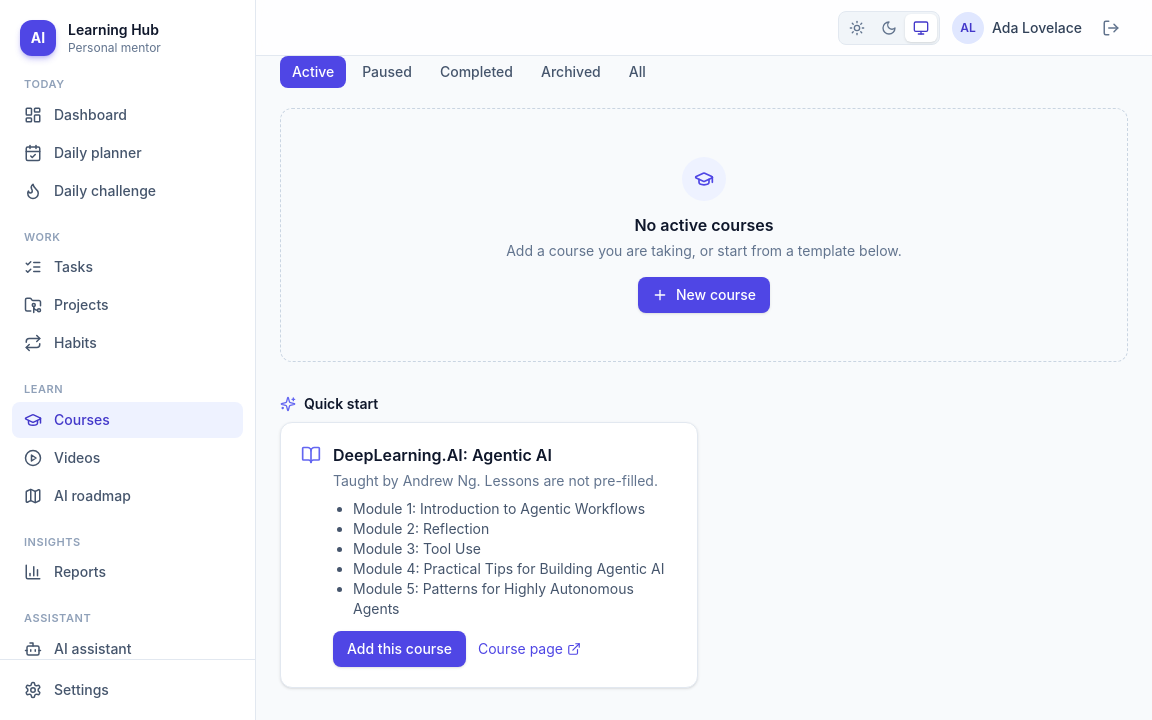
courses list › shows the server's message if adding a template fails
(page scrolled)
Click the button "Add this course" at (400, 649), box [333,631,466,667]
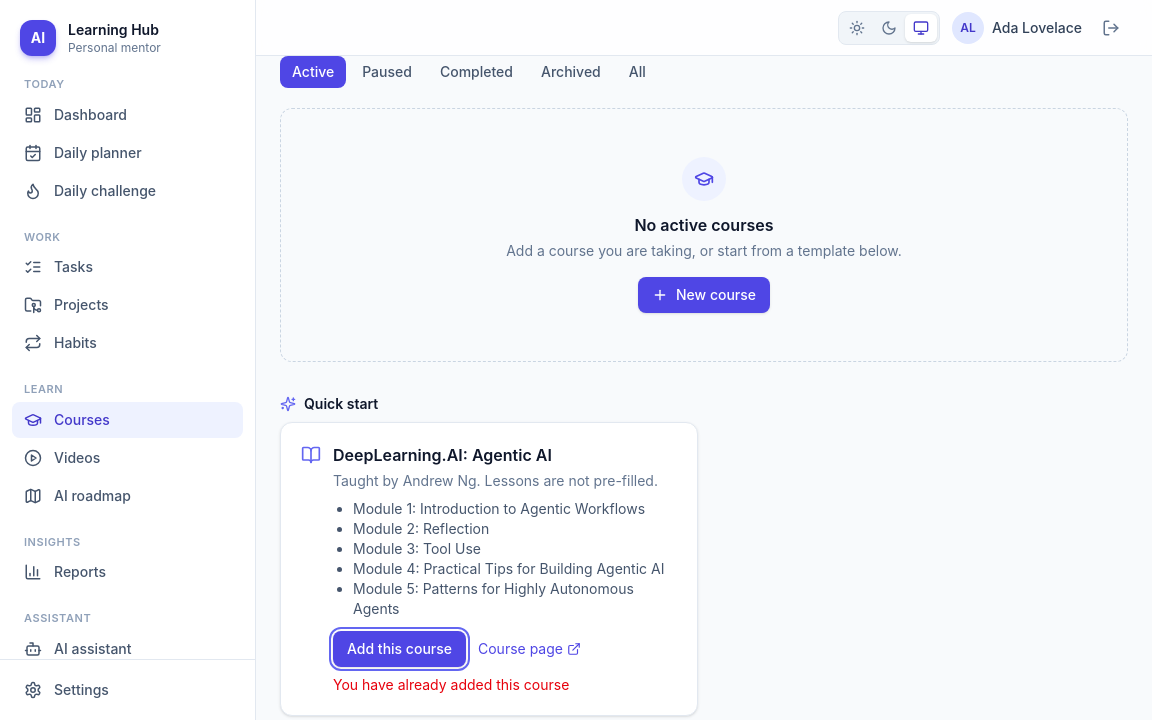
Result: the message shows "already added" at [333,676,569,693]
